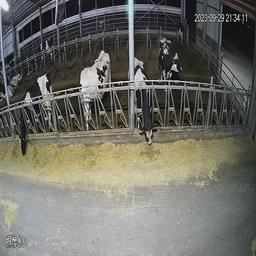cow: (72, 42, 121, 142), (15, 65, 60, 163), (125, 50, 156, 157), (157, 27, 186, 98), (34, 33, 58, 62), (175, 17, 185, 45)
